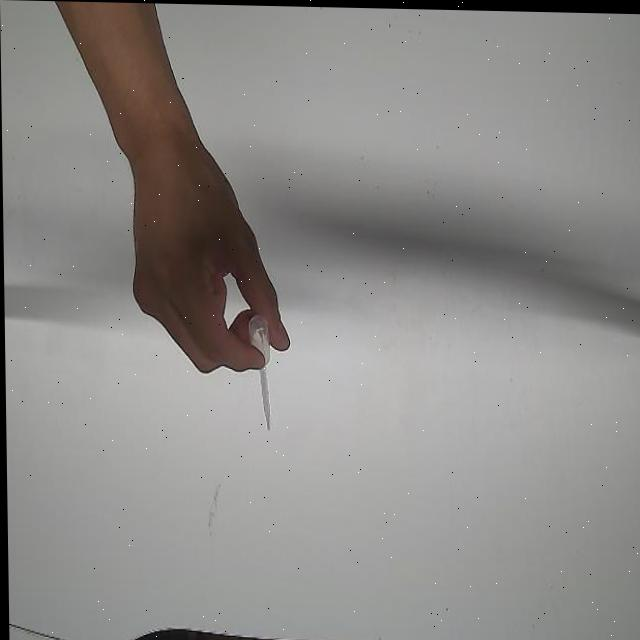Disposable Pasteur Pipette - Sealed: (245, 306, 278, 432)
